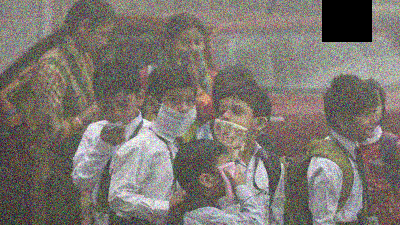mask_weared_incorrect: (158, 92, 195, 138), (173, 34, 206, 65)
with_mask: (211, 160, 236, 201)
without_mask: (217, 103, 252, 141), (98, 96, 138, 127), (350, 105, 378, 139), (89, 26, 113, 56)
